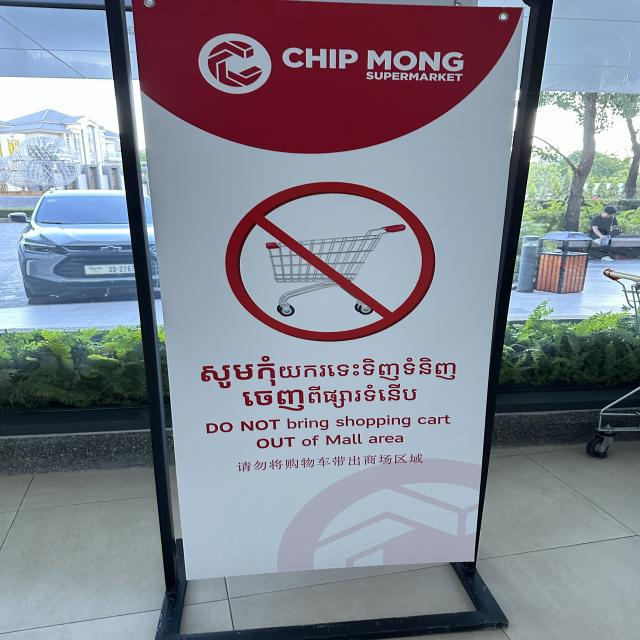Yolov11kh: (189, 353, 463, 391), (233, 383, 423, 416)
